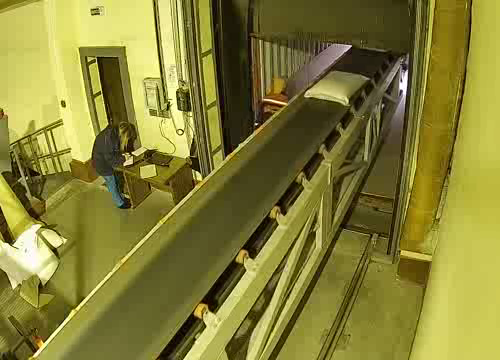bag: (303, 65, 370, 108)
